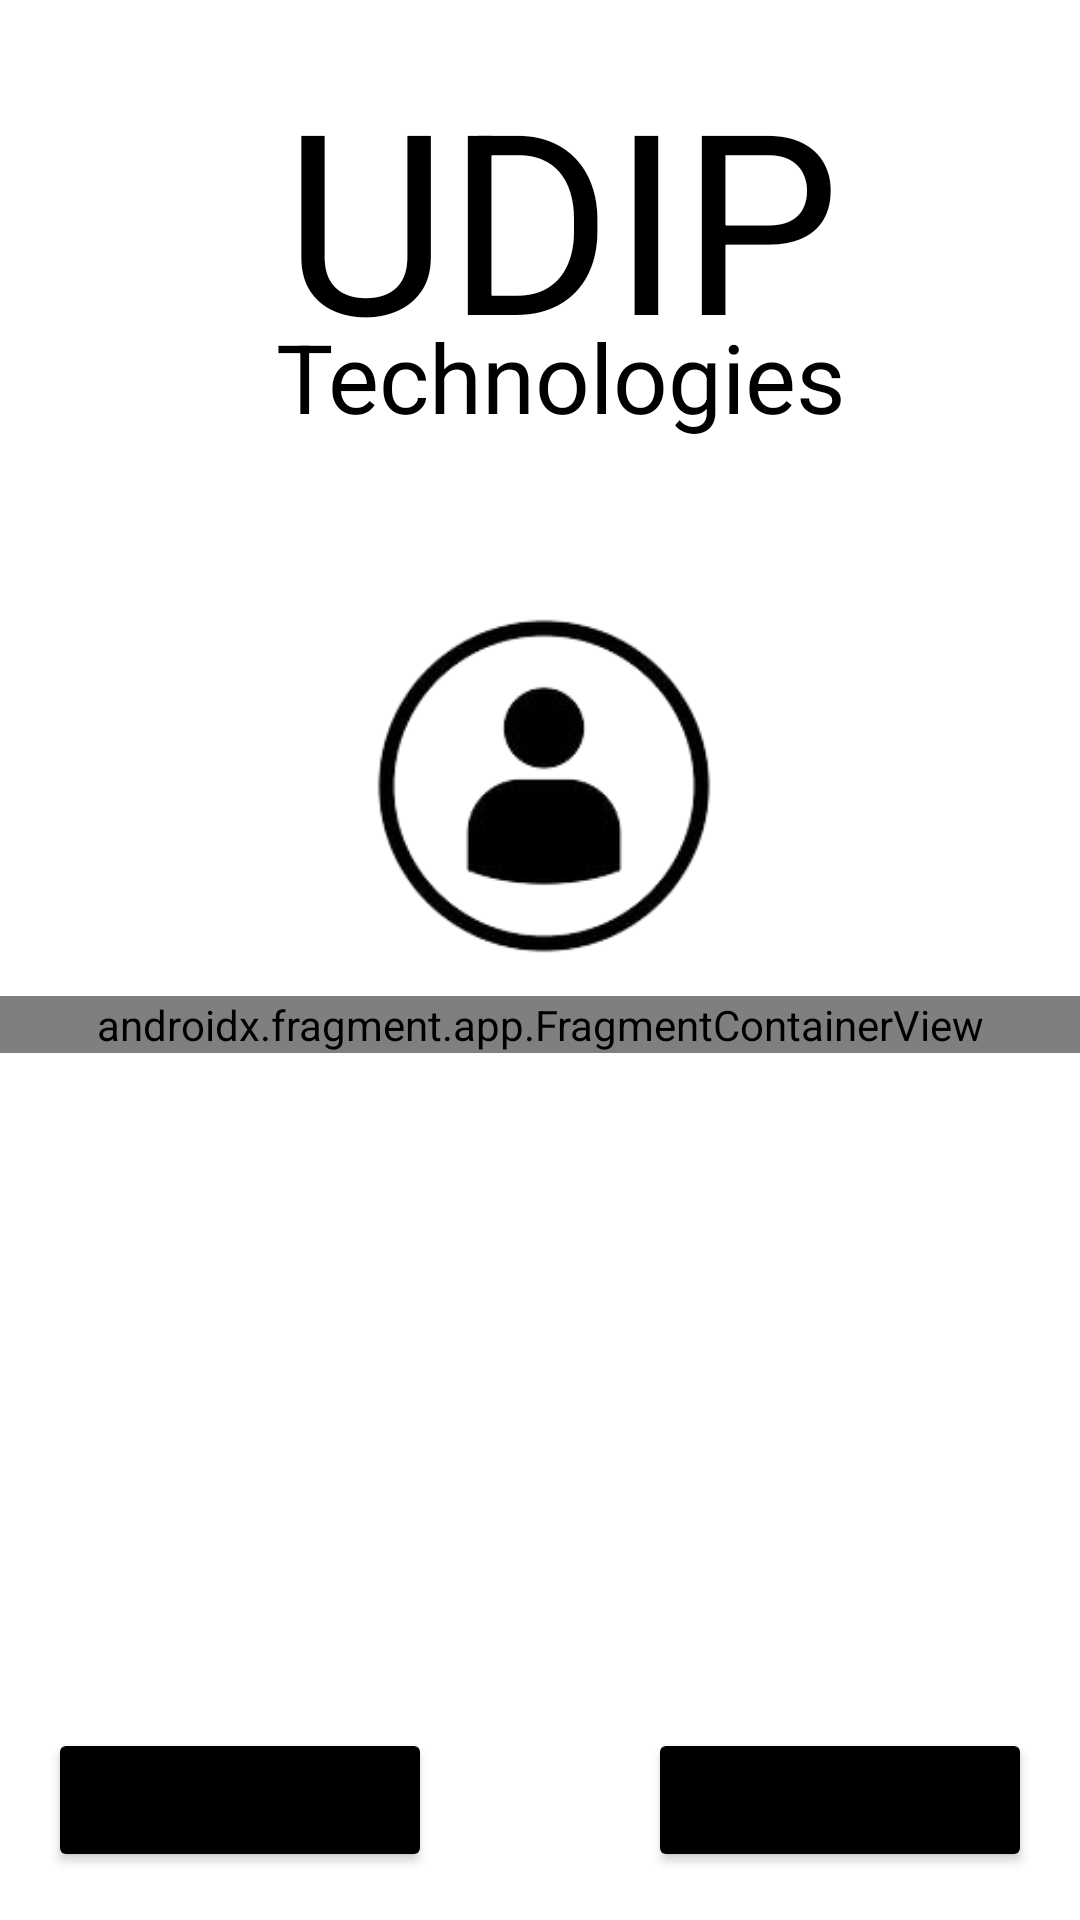

Point at icon controls on the screen. Image size 1080w x 1920h, points as [x,y].
account: [544,786]
